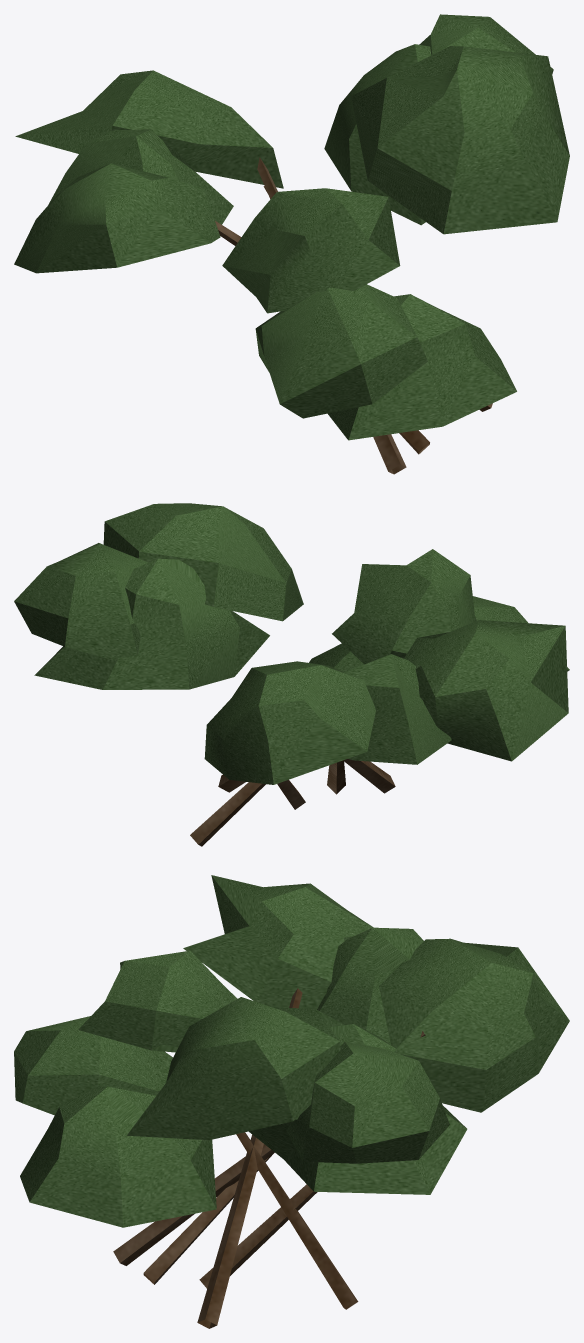
Rendered from thicket_1.glb.
3 renders of one model, top to bottom at view 1: azimuth 30°, elevation 25°; view 2: azimuth 150°, elevation 25°; view 3: azimuth 270°, elevation 25°, orthographic. The views are drawn at different scales.
Parts seen in each view (by area): view 1: thicket_1; view 2: thicket_1; view 3: thicket_1.
Boxes of the visible parts, box(x1,y1,x2,y2) form: thicket_1: box(14, 14, 569, 474); thicket_1: box(14, 503, 569, 846); thicket_1: box(14, 875, 569, 1328).
Bounding box in the file's own units: 3.93 × 2.25 × 3.46.
2 materials, 2 textured.
